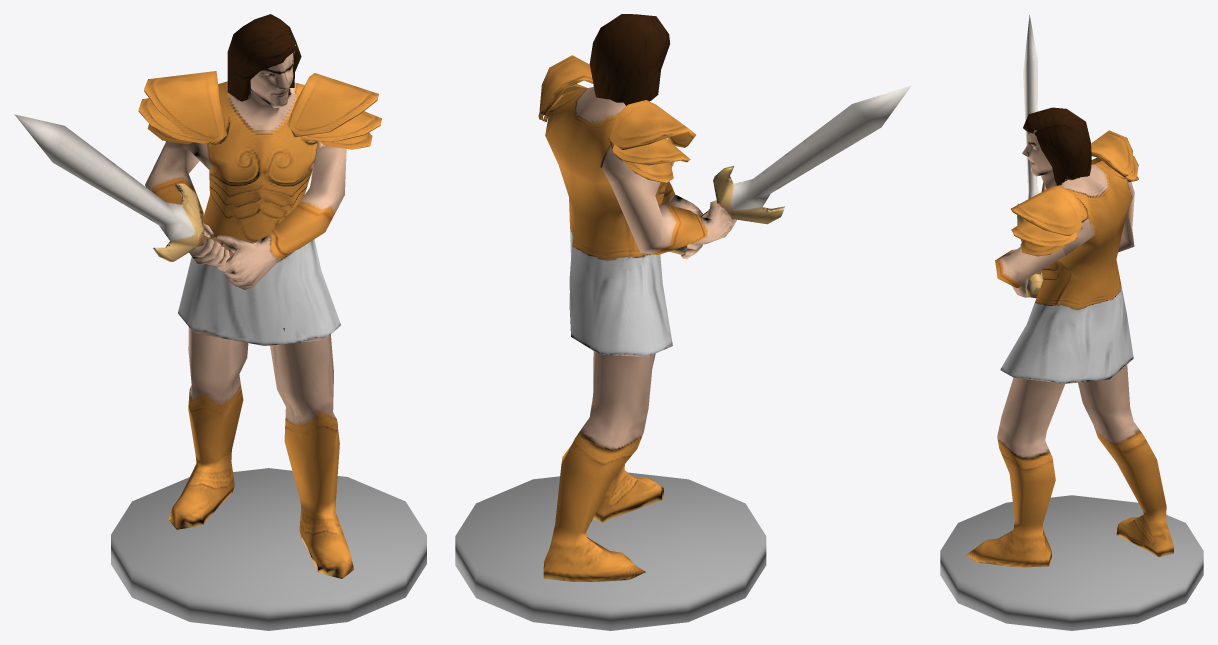
Rendered from Achilles.fbx.
3 views of the same model, side by side, from view 1: azimuth 30°, elevation 25°; view 2: azimuth 150°, elevation 25°; view 3: azimuth 270°, elevation 25° (orthographic). The views are drawn at different scales.
Visible parts, largest first — view 1: SoldierOfAthena1, SoldierOfAthena_base; view 2: SoldierOfAthena1, SoldierOfAthena_base; view 3: SoldierOfAthena1, SoldierOfAthena_base.
Boxes of the visible parts, left/top/right/bottom form: SoldierOfAthena1: left=14, top=14, right=381, bottom=578; SoldierOfAthena_base: left=111, top=468, right=426, bottom=630; SoldierOfAthena1: left=538, top=14, right=911, bottom=581; SoldierOfAthena_base: left=455, top=472, right=766, bottom=630; SoldierOfAthena1: left=966, top=15, right=1173, bottom=567; SoldierOfAthena_base: left=940, top=495, right=1203, bottom=630.
Bounding box in the file's own units: 24.92 × 31.55 × 16.36.
